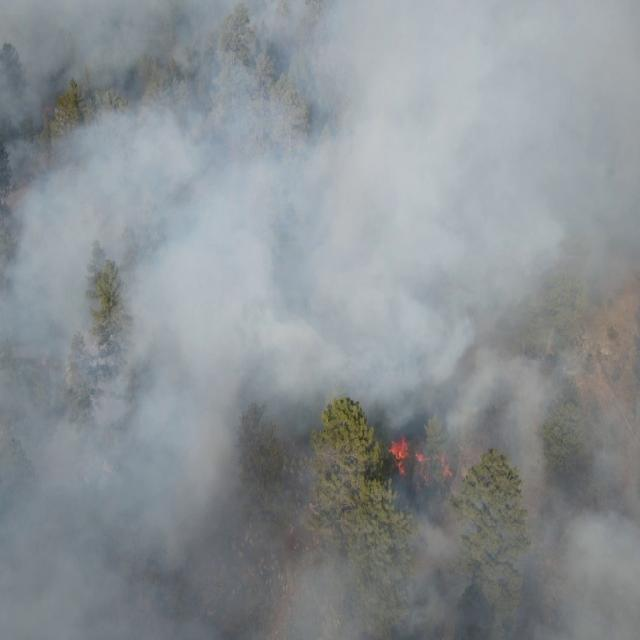fire: (388, 432, 412, 476), (413, 448, 433, 492), (439, 453, 456, 482), (42, 101, 54, 115)
smoke: (2, 0, 640, 640)
